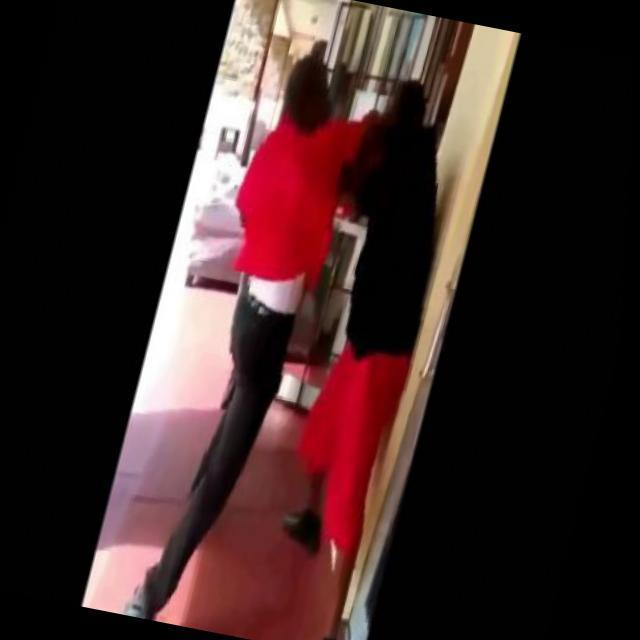fight: (129, 47, 485, 640)
